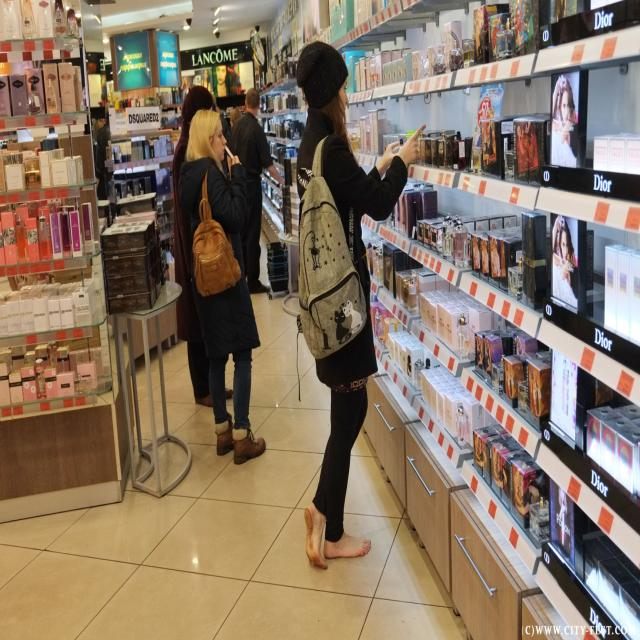Barefoots: (304, 503, 328, 569), (323, 531, 371, 559)
